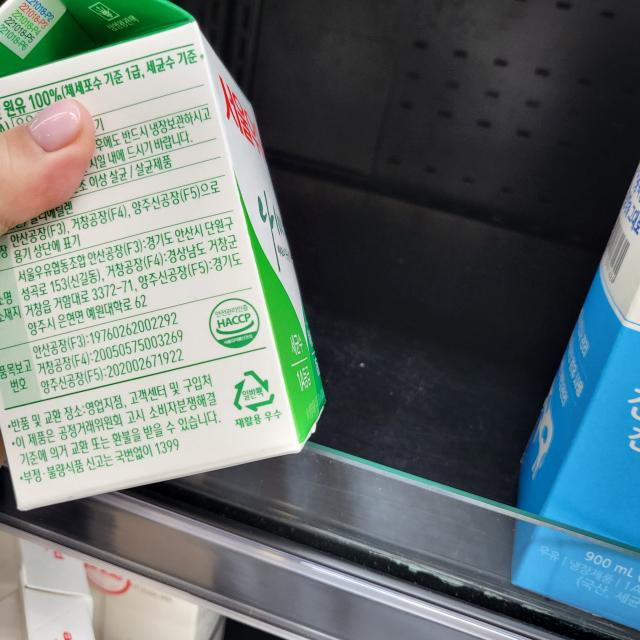NormalPack: (230, 367, 280, 414)
